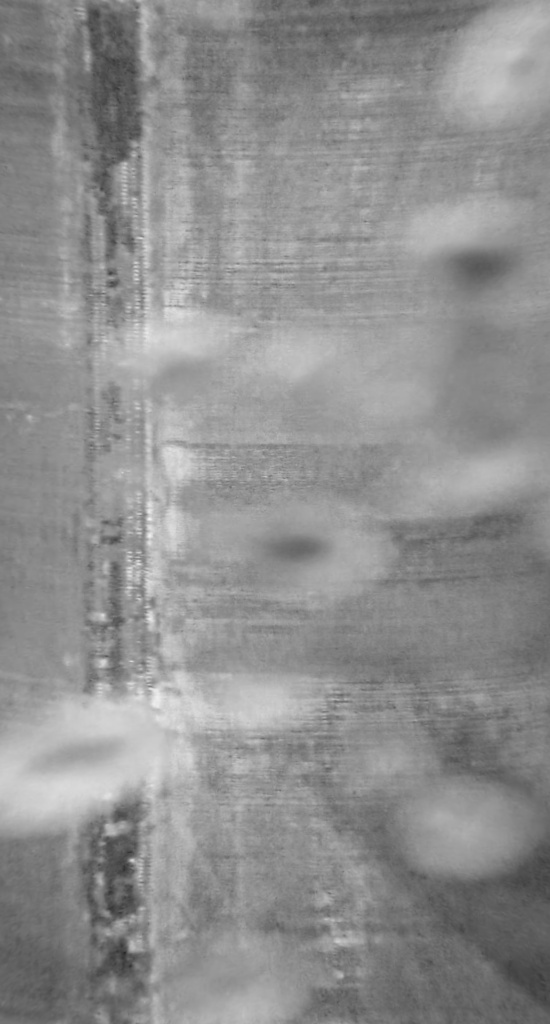splice: (67, 1, 164, 1024)
